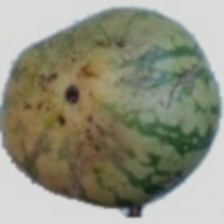watermelon: (19, 59, 166, 208)
